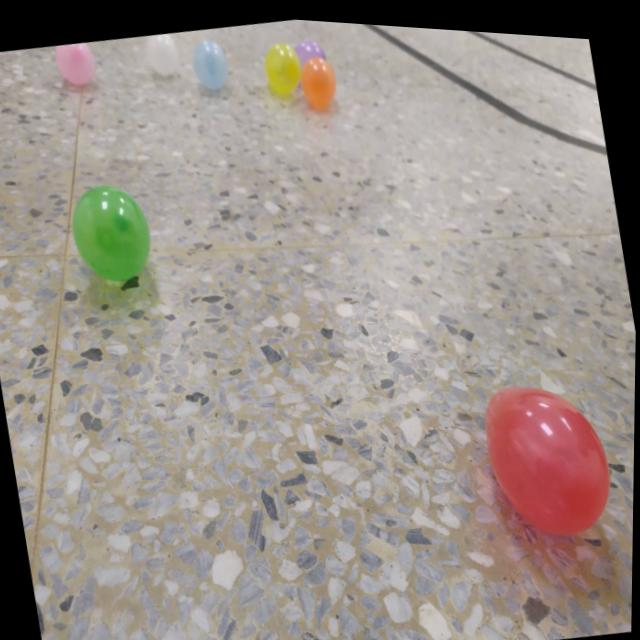other: (63, 174, 159, 288), (298, 47, 343, 111), (262, 33, 306, 96), (188, 34, 233, 91), (51, 38, 101, 89), (143, 28, 183, 78), (293, 29, 326, 65)
red: (474, 360, 623, 542)
